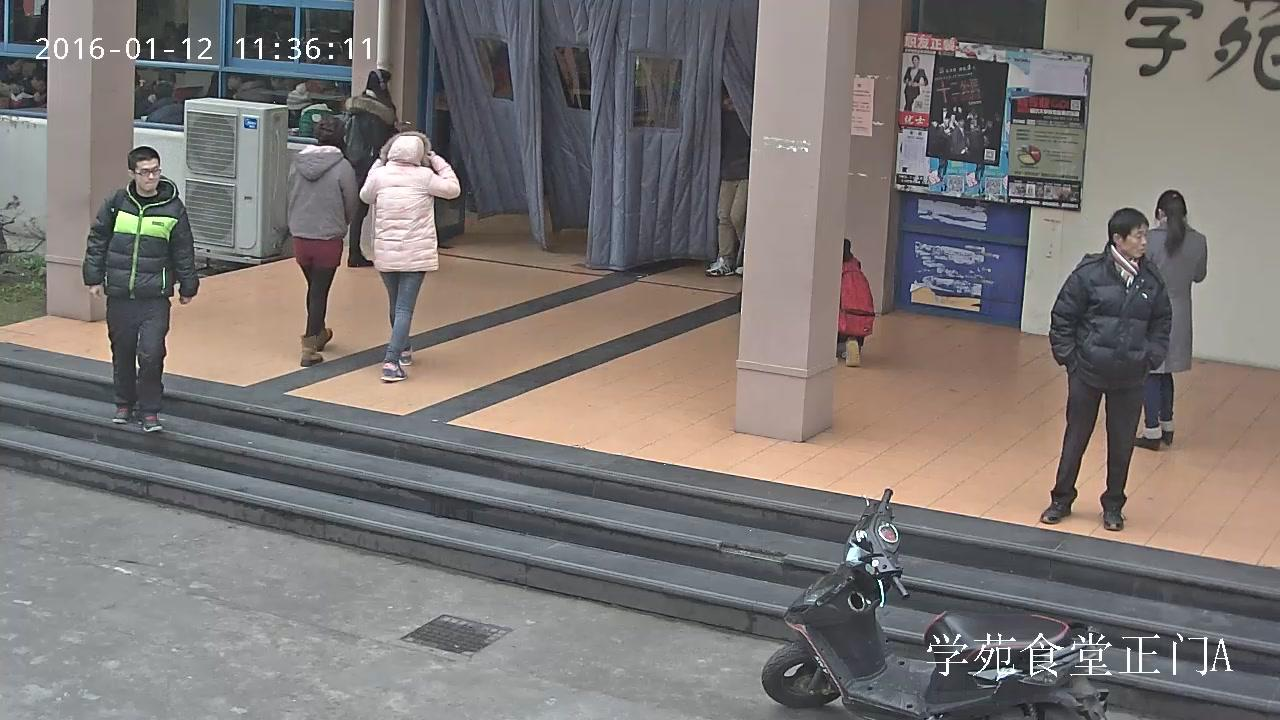person: (1040, 207, 1173, 530), (81, 145, 200, 431), (358, 130, 461, 382), (1134, 190, 1207, 450), (288, 117, 357, 368), (341, 68, 400, 266), (704, 92, 750, 277), (836, 238, 874, 368), (286, 82, 336, 138), (144, 83, 190, 124), (134, 78, 173, 119), (902, 55, 928, 110)
